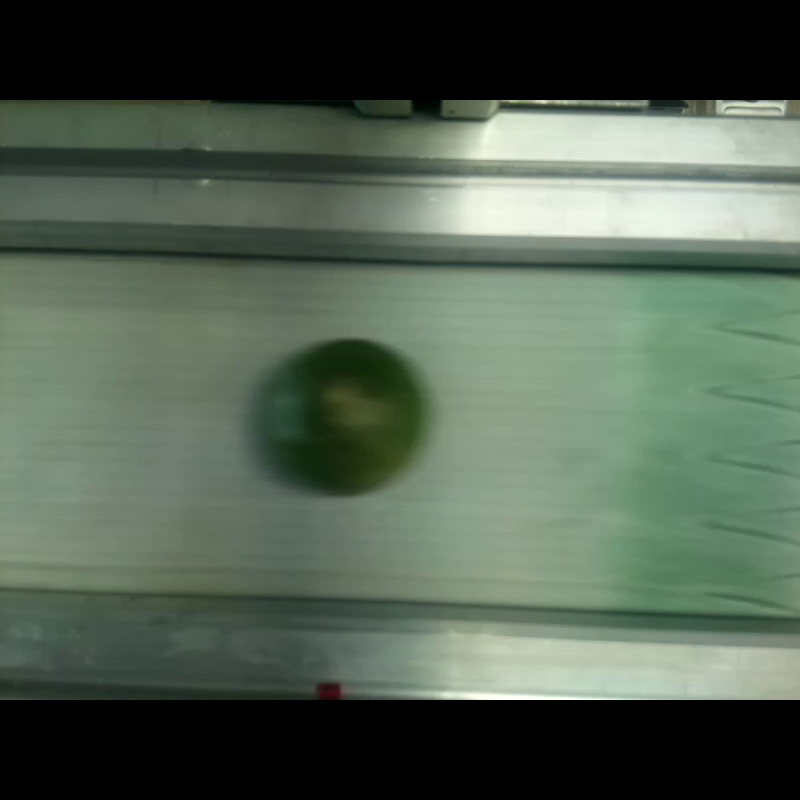lime: (268, 338, 418, 494)
